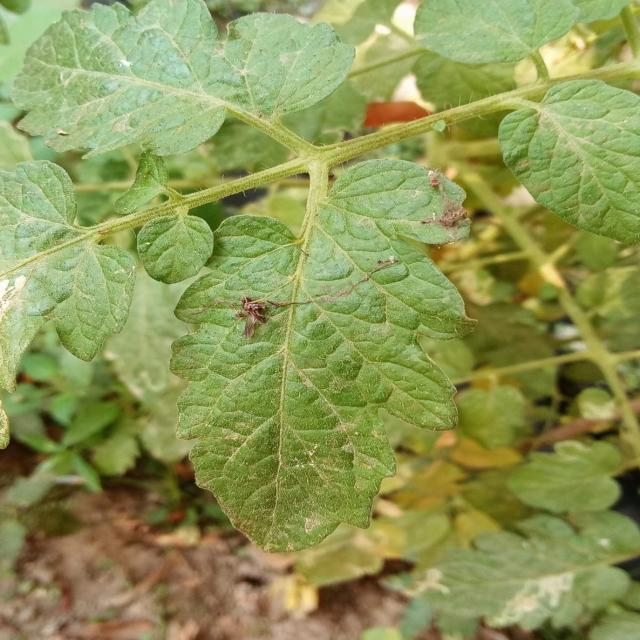Healthy: (159, 154, 486, 558), (5, 0, 363, 170), (499, 81, 639, 243), (128, 199, 225, 293)
